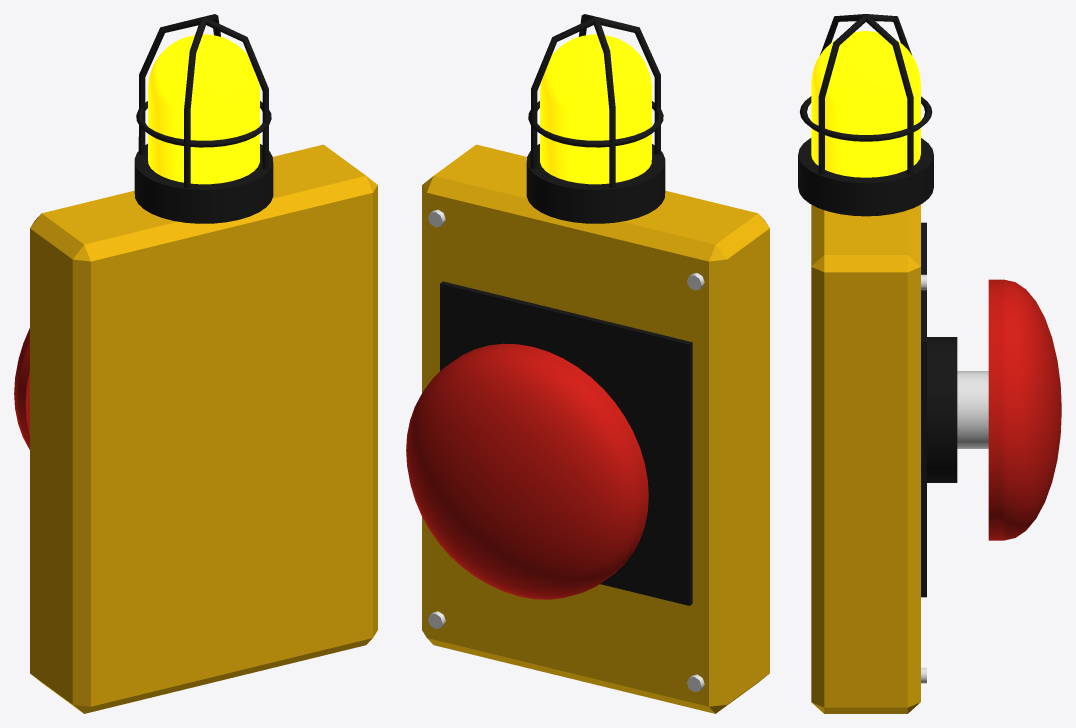
The model's file is pulsante_a.glb.
3 views of the same model, side by side, from view 1: azimuth 30°, elevation 25°; view 2: azimuth 150°, elevation 25°; view 3: azimuth 270°, elevation 25° (orthographic). The views are drawn at different scales.
Parts seen in each view (by area): view 1: prop_pulsante_a; view 2: prop_pulsante_a; view 3: prop_pulsante_a.
Part boxes in pixels (bbox=[...]): prop_pulsante_a: bbox=[14, 14, 377, 713]; prop_pulsante_a: bbox=[406, 14, 769, 713]; prop_pulsante_a: bbox=[798, 14, 1061, 713].
Size of what is drawn, in the model's own units: 0.66 by 1.34 by 0.505.
